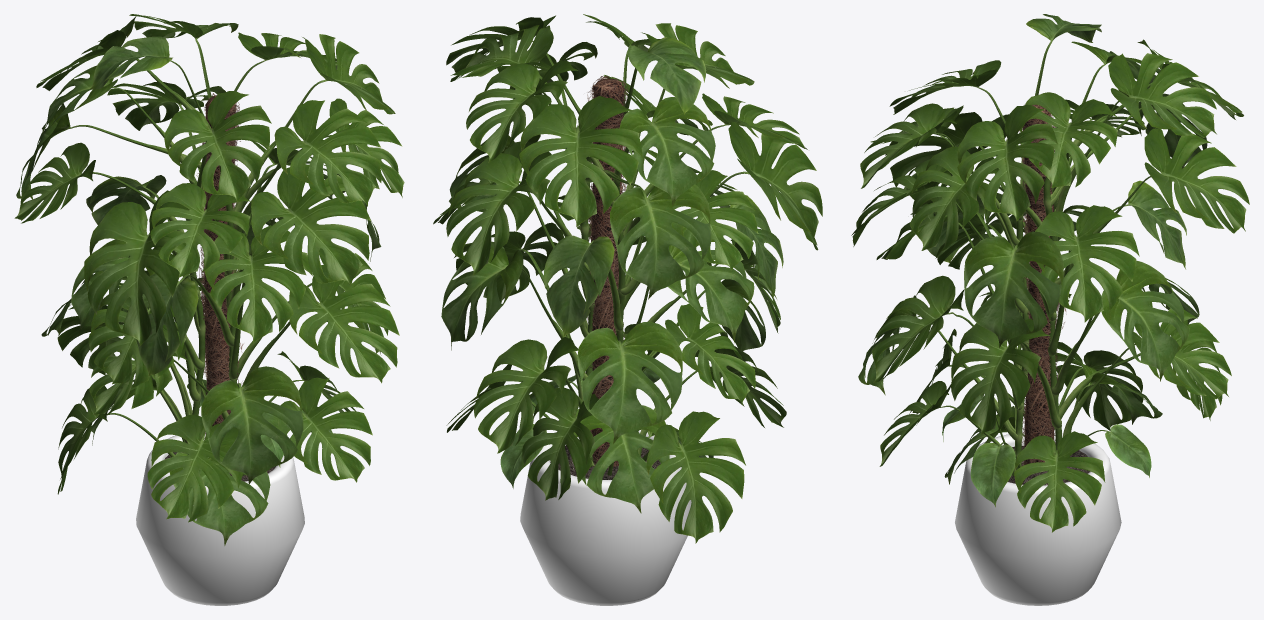
The model's file is monstera.glb.
The picture shows the model from 3 angles, left to right: view 1: azimuth 30°, elevation 25°; view 2: azimuth 150°, elevation 25°; view 3: azimuth 270°, elevation 25°; orthographic projection. The views are drawn at different scales.
Visible parts, largest first — view 1: Leaves, Vase, Fiber stick; view 2: Leaves, Vase, Fiber stick; view 3: Leaves, Vase, Fiber stick.
Boxes of the visible parts, x1,y1,x2,y2 form: Leaves: [14, 14, 404, 545]; Vase: [136, 432, 304, 605]; Fiber stick: [196, 93, 243, 438]; Leaves: [433, 14, 822, 543]; Vase: [520, 430, 691, 605]; Fiber stick: [585, 76, 628, 467]; Leaves: [851, 14, 1249, 532]; Vase: [955, 432, 1121, 605]; Fiber stick: [1018, 104, 1066, 466].
Size of the model in its own units: 0.8062 by 1.29 by 0.8672.
Materials: 5 (4 with a texture image).
